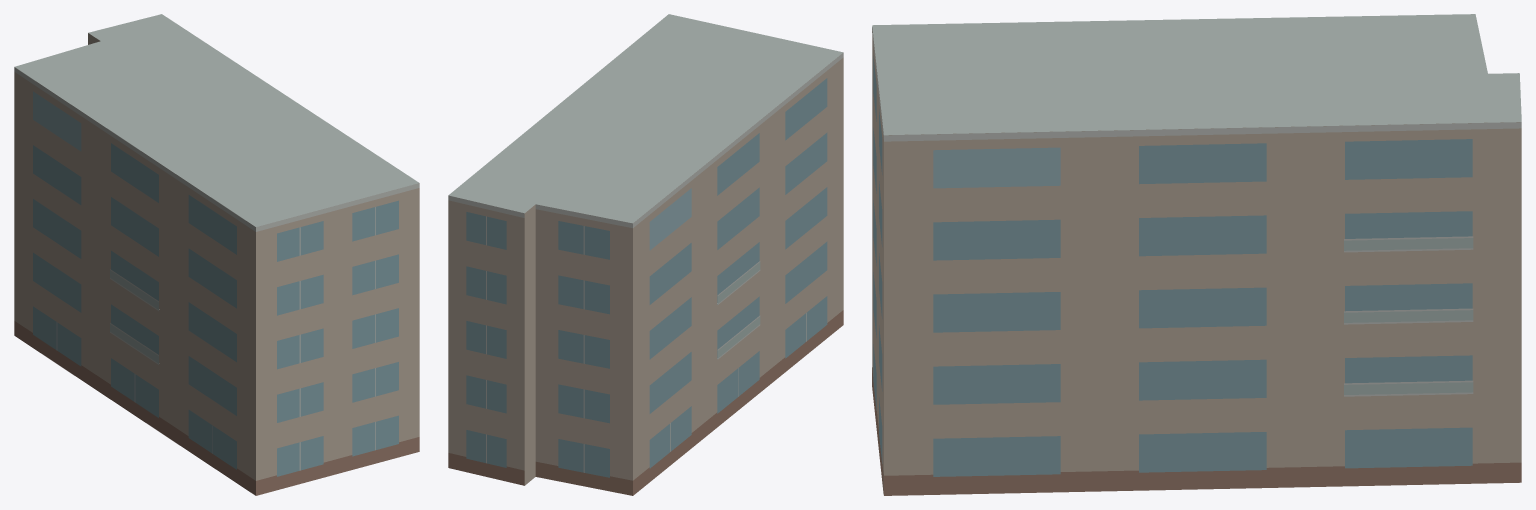
Rendered from survey-upis-33045869.glb.
3 views of the same model, side by side, from view 1: azimuth 30°, elevation 25°; view 2: azimuth 150°, elevation 25°; view 3: azimuth 270°, elevation 25° (orthographic). The views are drawn at different scales.
Visible parts, largest first — view 1: survey-upis-33045869.tmp; view 2: survey-upis-33045869.tmp; view 3: survey-upis-33045869.tmp.
Part boxes in pixels (x1,y1,x2,y2): survey-upis-33045869.tmp: (14,14,419,495); survey-upis-33045869.tmp: (448,14,843,495); survey-upis-33045869.tmp: (872,14,1521,495).
Size of the model in its own units: 9.88 by 13.7 by 22.38.
